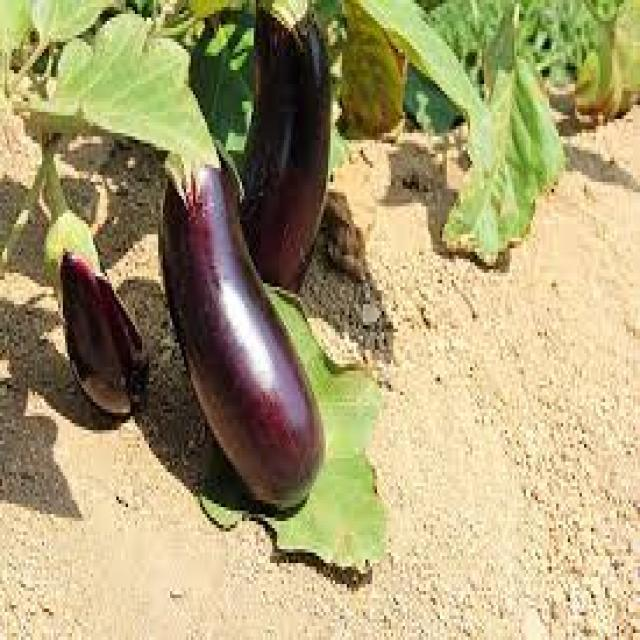Eggplant: (154, 78, 328, 520), (216, 0, 334, 296), (36, 177, 154, 415)
